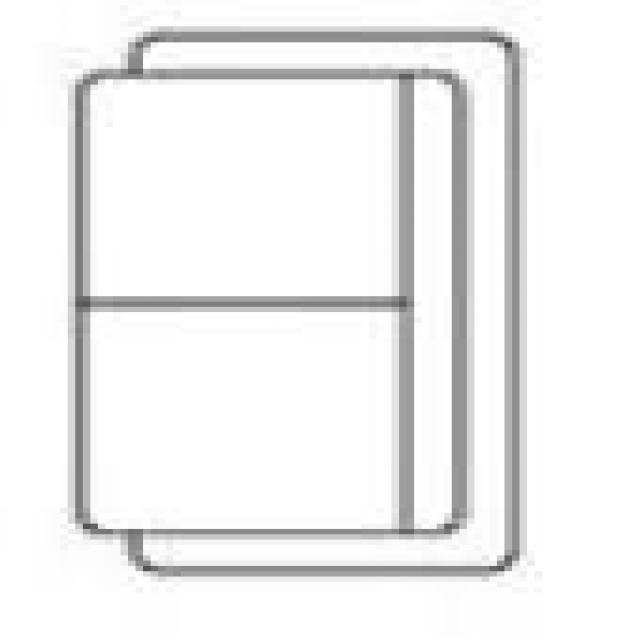sofa: (76, 26, 520, 572)
